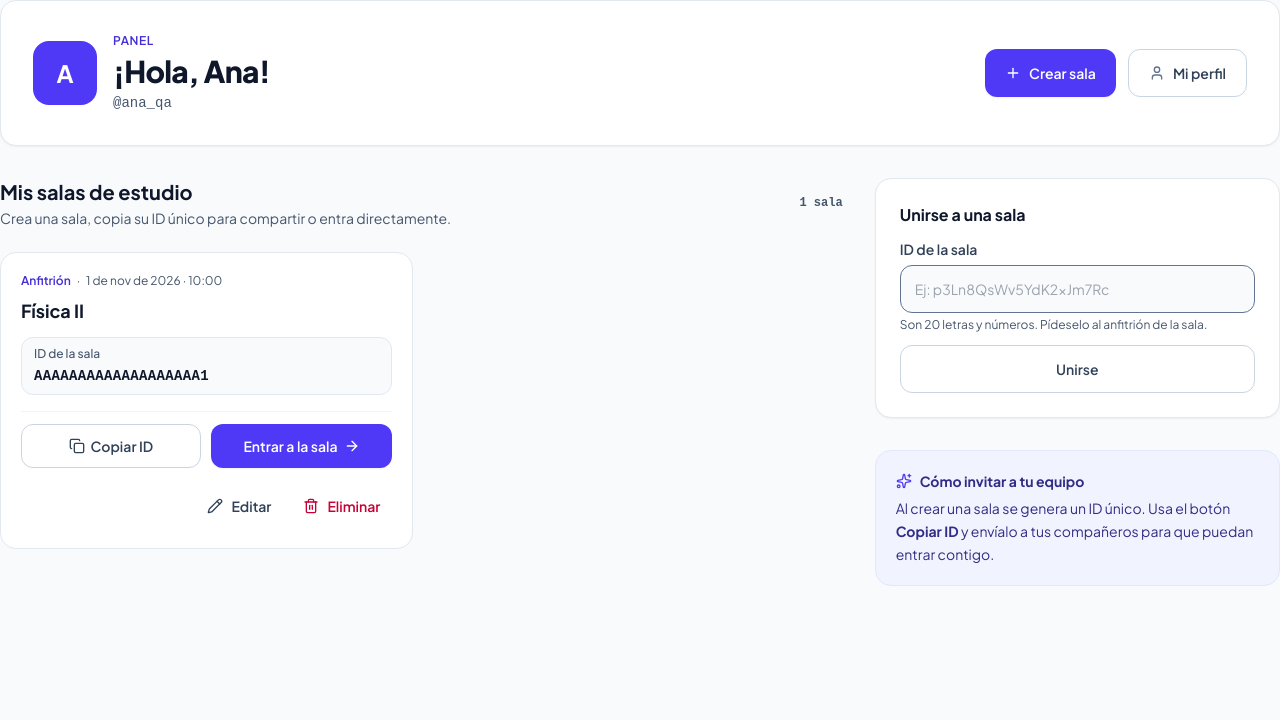
Test case: US-07 | gestión de salas › cancelar no elimina; confirmar la última sala muestra el panel vacío
Click the button "Eliminar": (342, 506) x1=291 y1=484 x2=392 y2=528
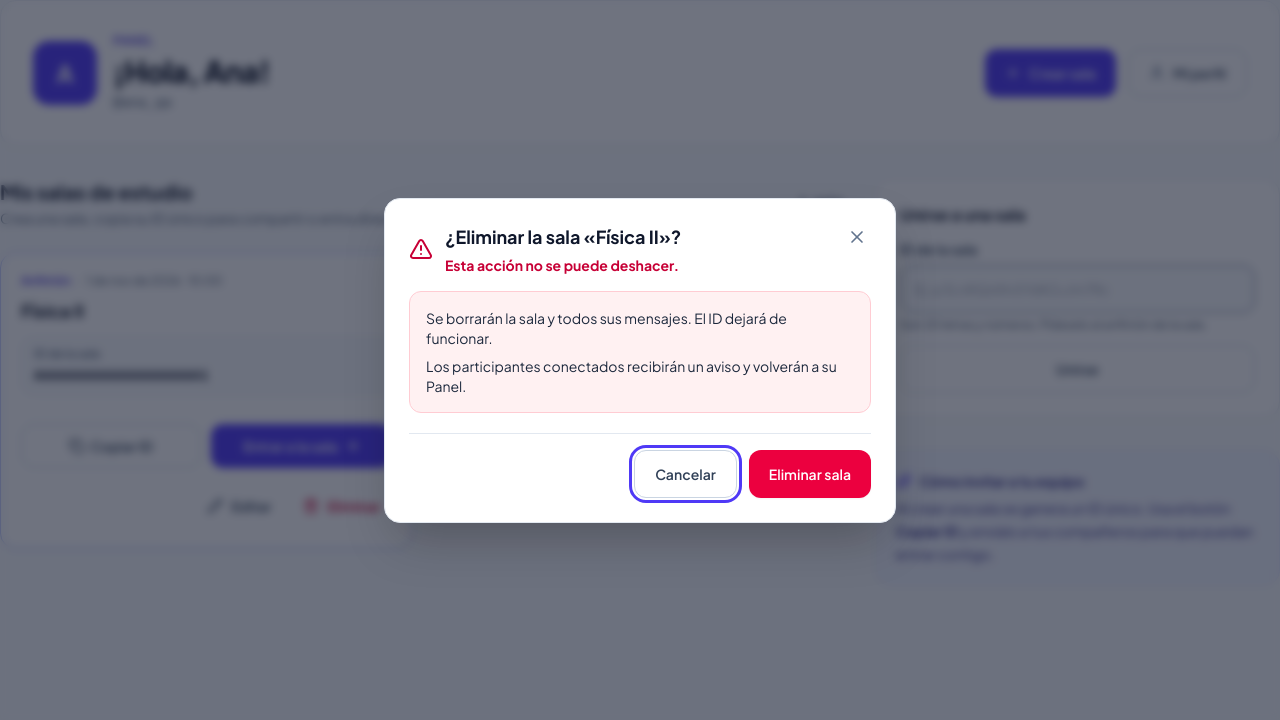
Press Escape
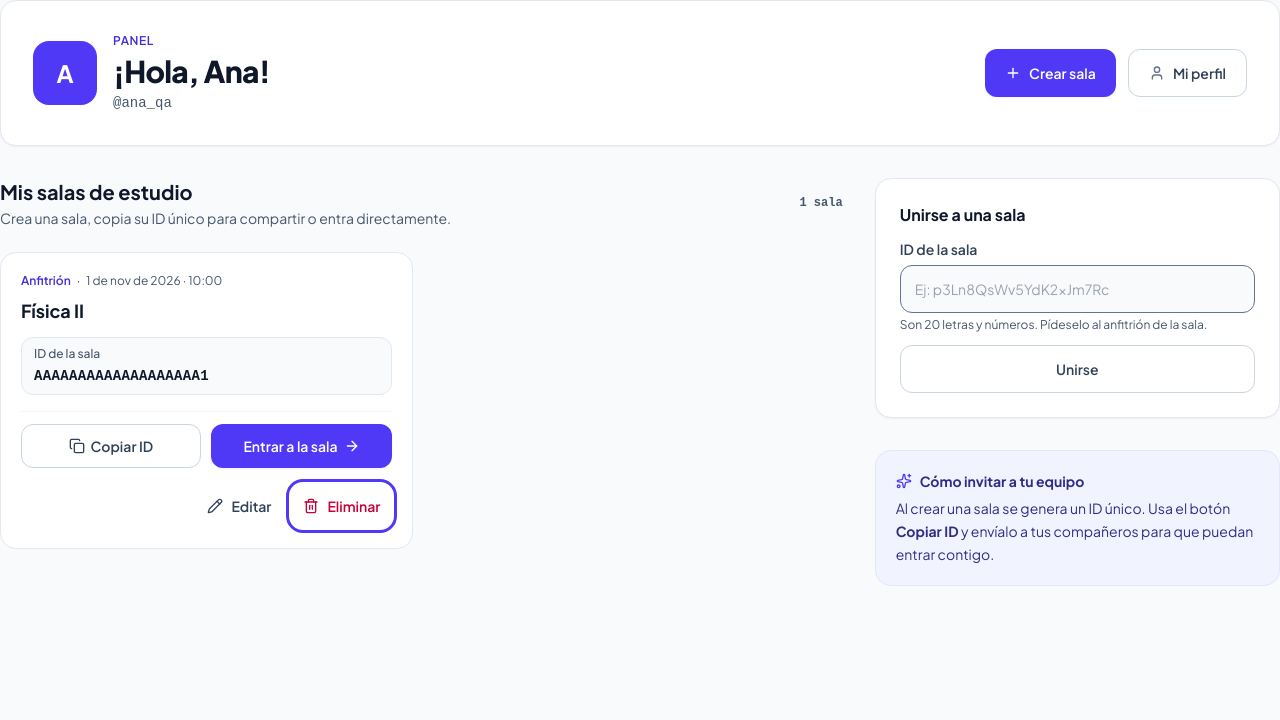
Click the button "Eliminar": (342, 506) x1=291 y1=484 x2=392 y2=528
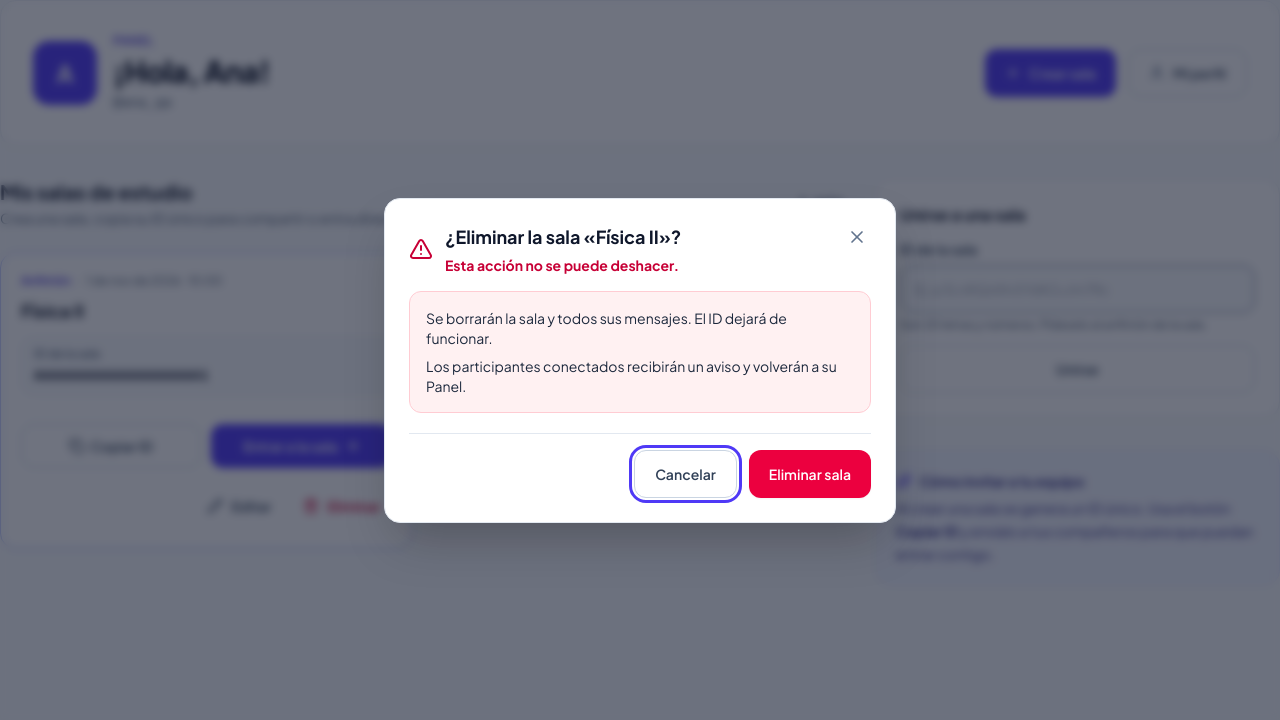
Click the button "Eliminar sala": (810, 474) x1=749 y1=450 x2=871 y2=498
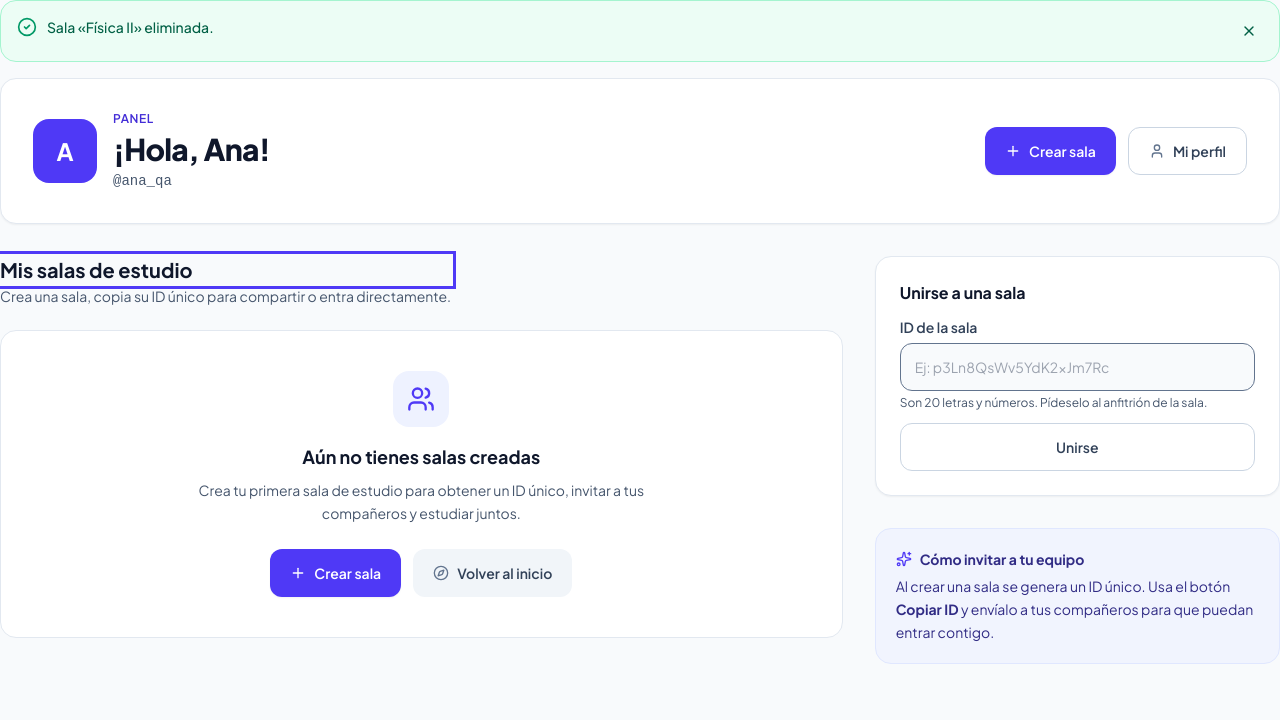
Now the heading "Aún no tienes salas creadas" is shown, box x1=302 y1=445 x2=540 y2=468
